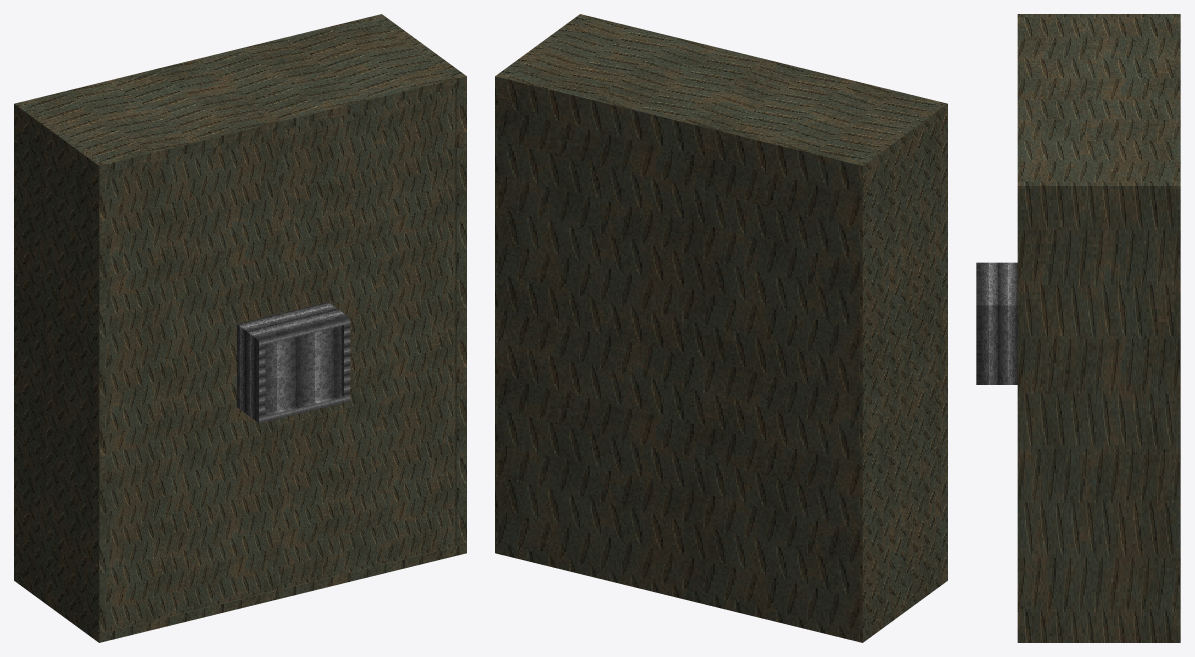
The model's file is cabinet.glb.
3 renders of one model, left to right at view 1: azimuth 30°, elevation 25°; view 2: azimuth 150°, elevation 25°; view 3: azimuth 270°, elevation 25°, orthographic. The views are drawn at different scales.
Parts seen in each view (by area): view 1: Cabinet, Door, Door.001, lock; view 2: Cabinet; view 3: Cabinet, lock.
Part boxes in pixels (x1,y1,x2,y2): Cabinet: (14,14,466,642); Door: (109,131,280,630); Door.001: (280,88,455,588); lock: (237,302,350,423); Cabinet: (495,14,947,642); Cabinet: (1017,14,1180,642); lock: (976,262,1017,384).
Size of the model in its own units: 2.46 by 3.05 by 1.24.
Materials: 2 (2 with a texture image).
